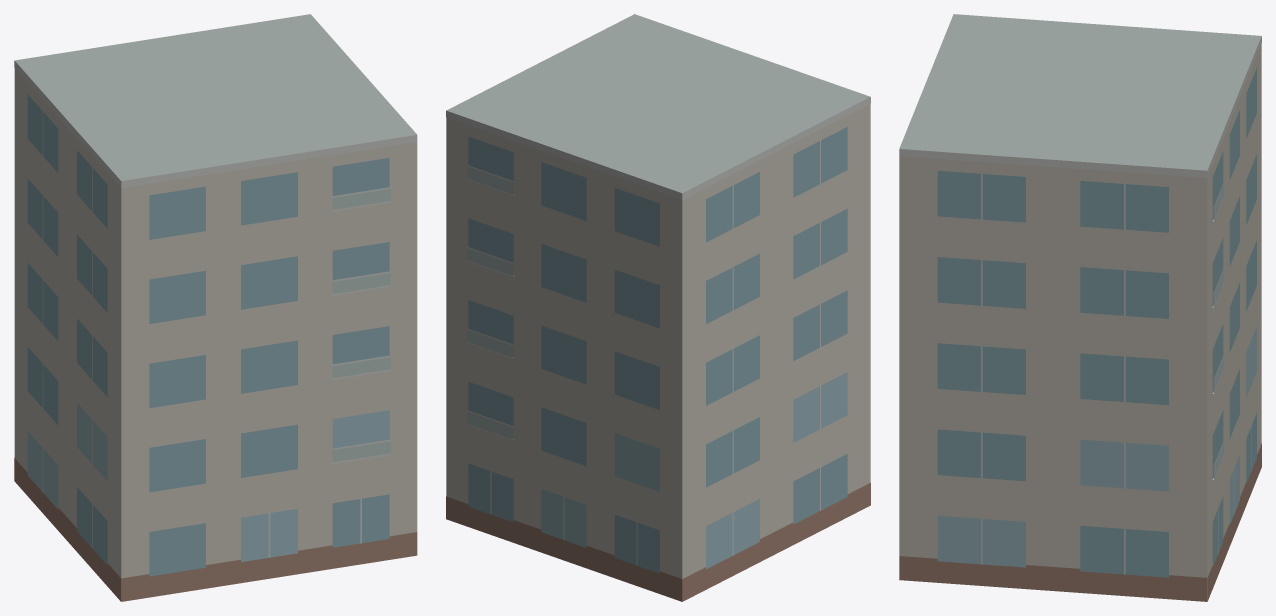
File: survey-upis-33041467.glb
The picture shows the model from 3 angles, left to right: view 1: azimuth 30°, elevation 25°; view 2: azimuth 150°, elevation 25°; view 3: azimuth 270°, elevation 25°; orthographic projection. The views are drawn at different scales.
Visible parts, largest first — view 1: survey-upis-33041467.tmp; view 2: survey-upis-33041467.tmp; view 3: survey-upis-33041467.tmp.
Boxes of the visible parts, <box> form: survey-upis-33041467.tmp: <box>14,14,417,601</box>; survey-upis-33041467.tmp: <box>446,14,870,601</box>; survey-upis-33041467.tmp: <box>899,14,1261,601</box>.
Size of the model in its own units: 11.39 by 14.6 by 11.14.
